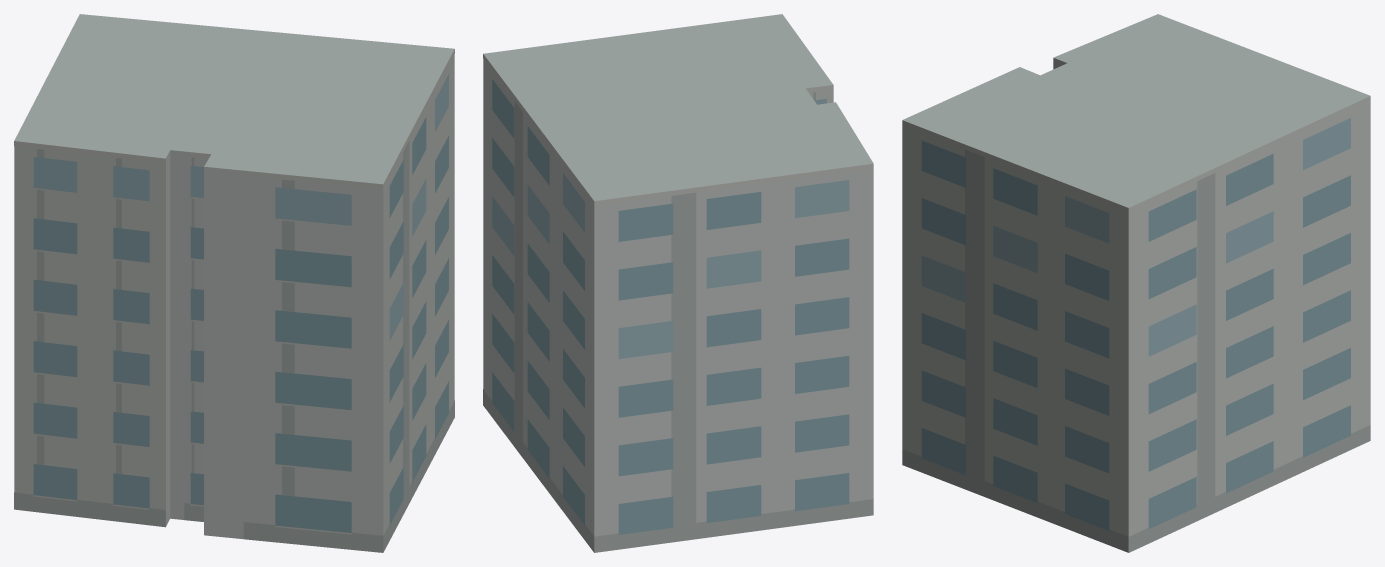
File: survey-upis-32804022.glb
3 renders of one model, left to right at view 1: azimuth 30°, elevation 25°; view 2: azimuth 150°, elevation 25°; view 3: azimuth 270°, elevation 25°, orthographic. The views are drawn at different scales.
Parts seen in each view (by area): view 1: survey-upis-32804022.tmp; view 2: survey-upis-32804022.tmp; view 3: survey-upis-32804022.tmp.
Part boxes in pixels (x1,y1,x2,y2): survey-upis-32804022.tmp: [14, 14, 454, 552]; survey-upis-32804022.tmp: [483, 14, 873, 552]; survey-upis-32804022.tmp: [902, 14, 1370, 552].
Bounding box in the file's own units: 20.64 × 17.1 × 21.06.
